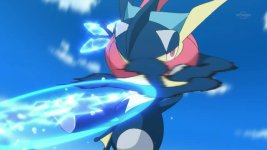greninja: (61, 1, 244, 150)
